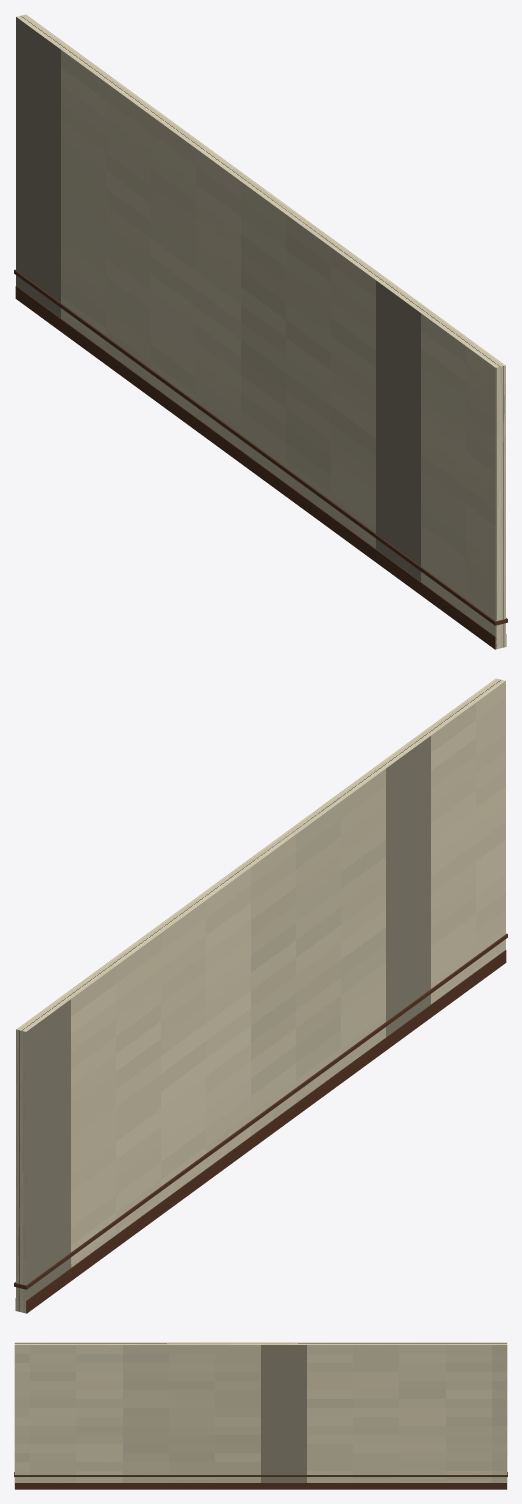
Rendered from wall_a.glb.
The picture shows the model from 3 angles, top to bottom: view 1: azimuth 30°, elevation 25°; view 2: azimuth 150°, elevation 25°; view 3: azimuth 270°, elevation 25°; orthographic projection. The views are drawn at different scales.
Parts seen in each view (by area): view 1: Box1, Box2, Box3, Box4; view 2: Box1, Box2, Box3, Box4; view 3: Box1, Box2, Box3, Box4.
Boxes of the visible parts, box(x1,y1,x2,y2) form: Box1: box(16, 14, 505, 649); Box2: box(15, 286, 506, 649); Box3: box(16, 275, 505, 648); Box4: box(14, 269, 507, 625); Box1: box(16, 678, 505, 1313); Box2: box(15, 950, 506, 1313); Box3: box(16, 939, 505, 1313); Box4: box(14, 933, 507, 1289); Box1: box(14, 1342, 507, 1488); Box2: box(15, 1483, 506, 1489); Box3: box(14, 1477, 507, 1487); Box4: box(14, 1472, 507, 1476).
Bounding box in the file's own units: 0.19 × 4 × 12.39.
2 materials, 1 textured.
